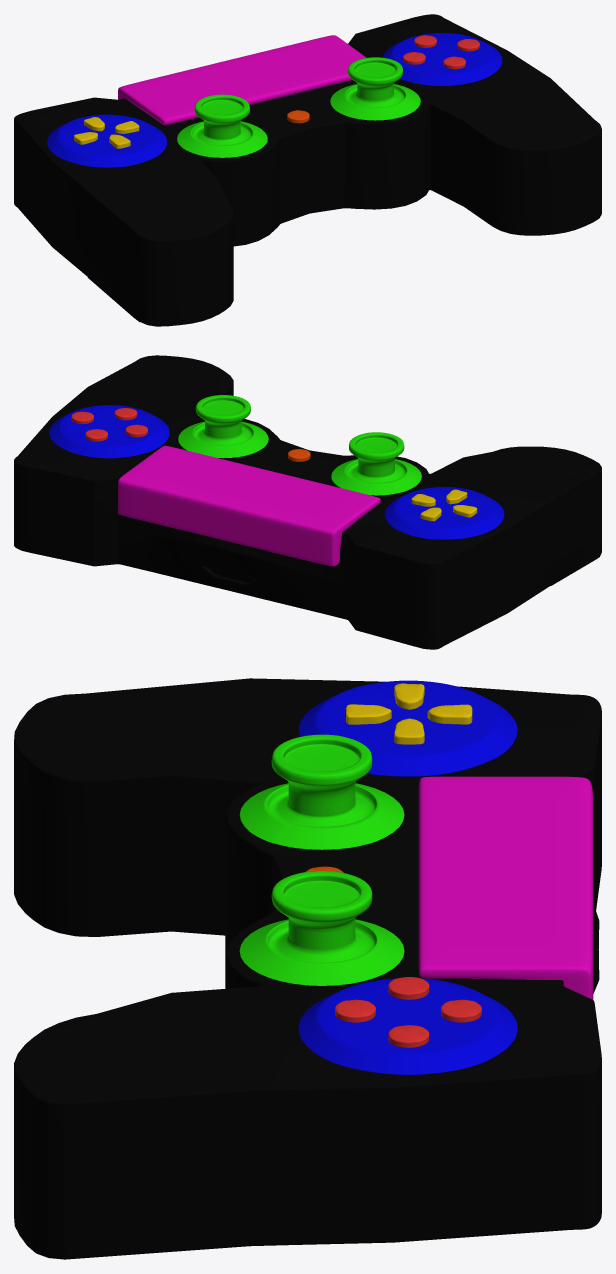
File: controller_high.fbx
The picture shows the model from 3 angles, top to bottom: view 1: azimuth 30°, elevation 25°; view 2: azimuth 150°, elevation 25°; view 3: azimuth 270°, elevation 25°; orthographic projection. The views are drawn at different scales.
Visible parts, largest first — view 1: Controller; view 2: Controller; view 3: Controller.
Boxes of the visible parts, x1,y1,x2,y2 form: Controller: (14,14,601,326); Controller: (14,355,601,649); Controller: (14,678,601,1259).
Bounding box in the file's own units: 56.13 × 14.87 × 33.86.
